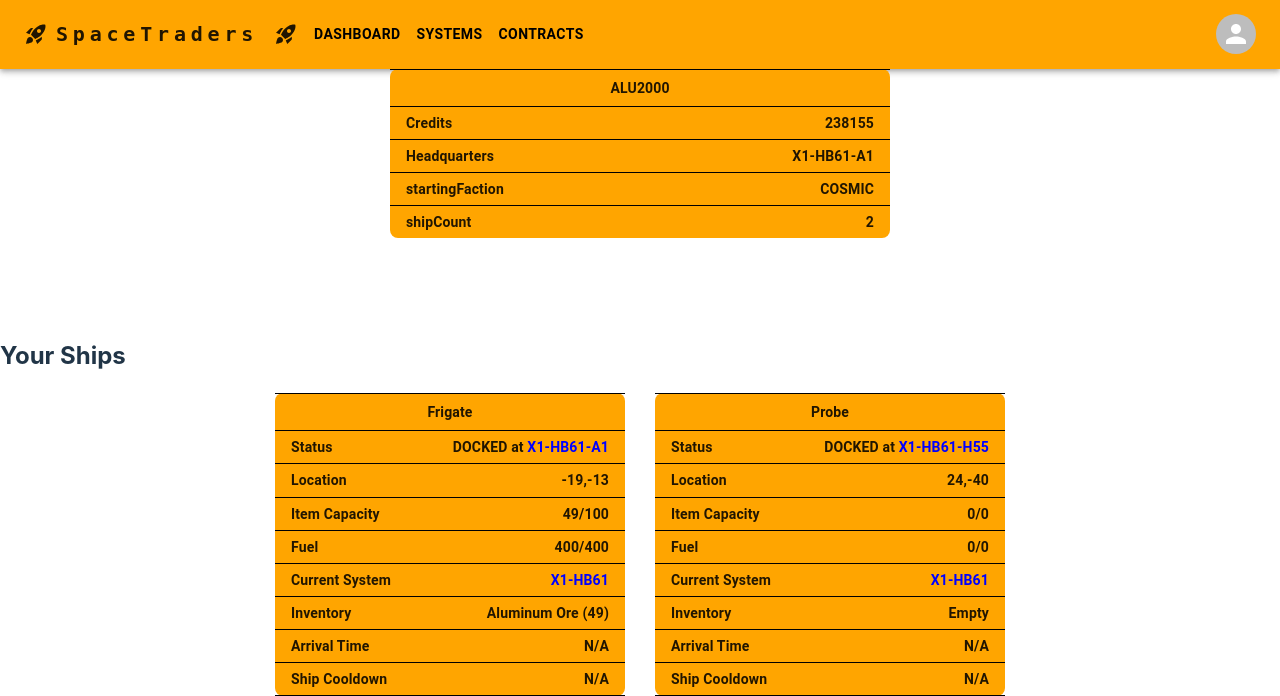
Should click on planet and display planet description table
The image size is (1280, 696).
Click the text with test id "test-status-X1-HB61-A1". click: [568, 448]
box: [527, 440, 609, 456]
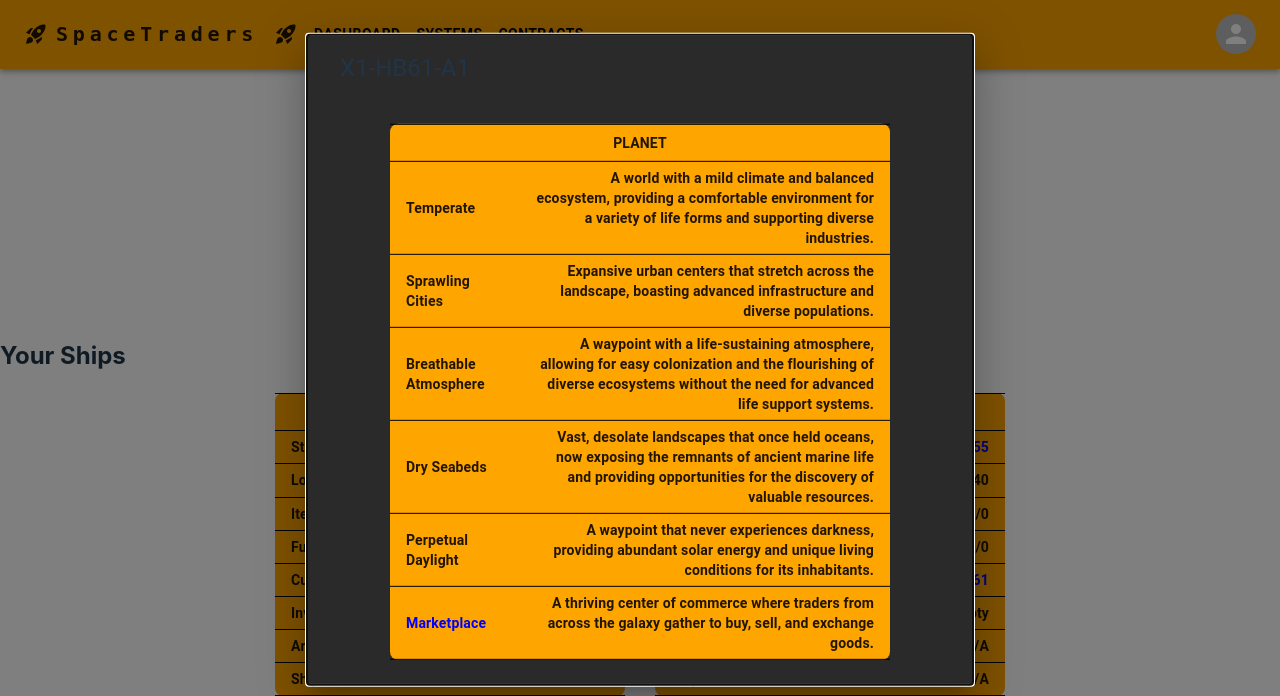
Expected: the text "Temperate" is shown, [406, 200, 475, 216]
Expected: the text "Sprawling Cities" is shown, [406, 273, 470, 309]
Expected: the text "Breathable Atmosphere" is shown, [406, 356, 485, 392]
